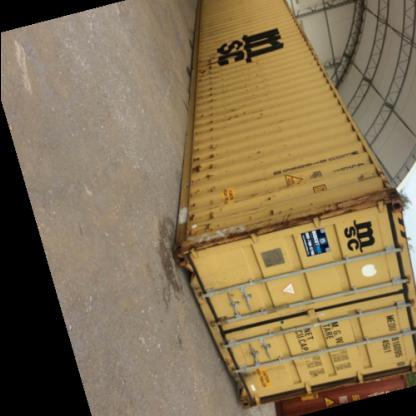Damage: (180, 190, 400, 244)
